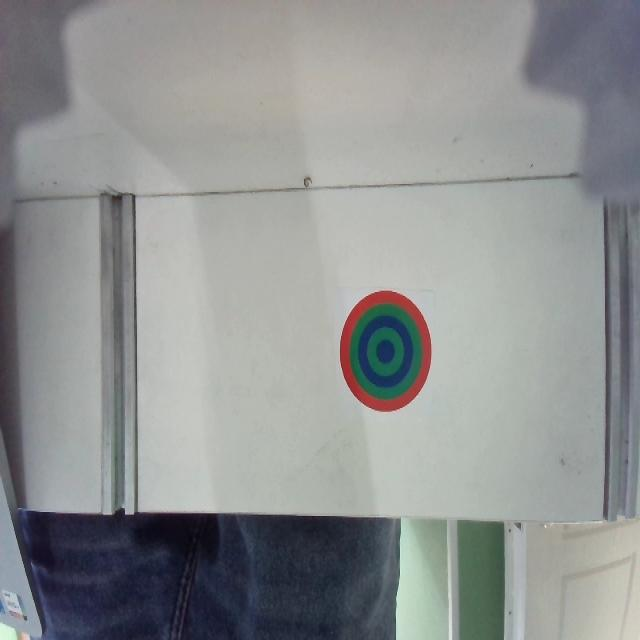cogn: (340, 290, 432, 413)
